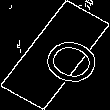O_NW: (16, 23, 94, 87)
